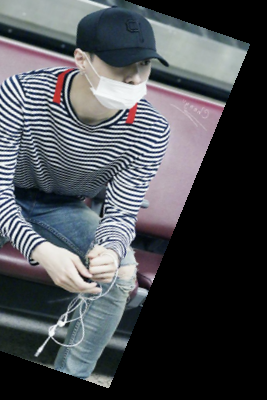mask_weared_incorrect: (69, 2, 171, 120)
